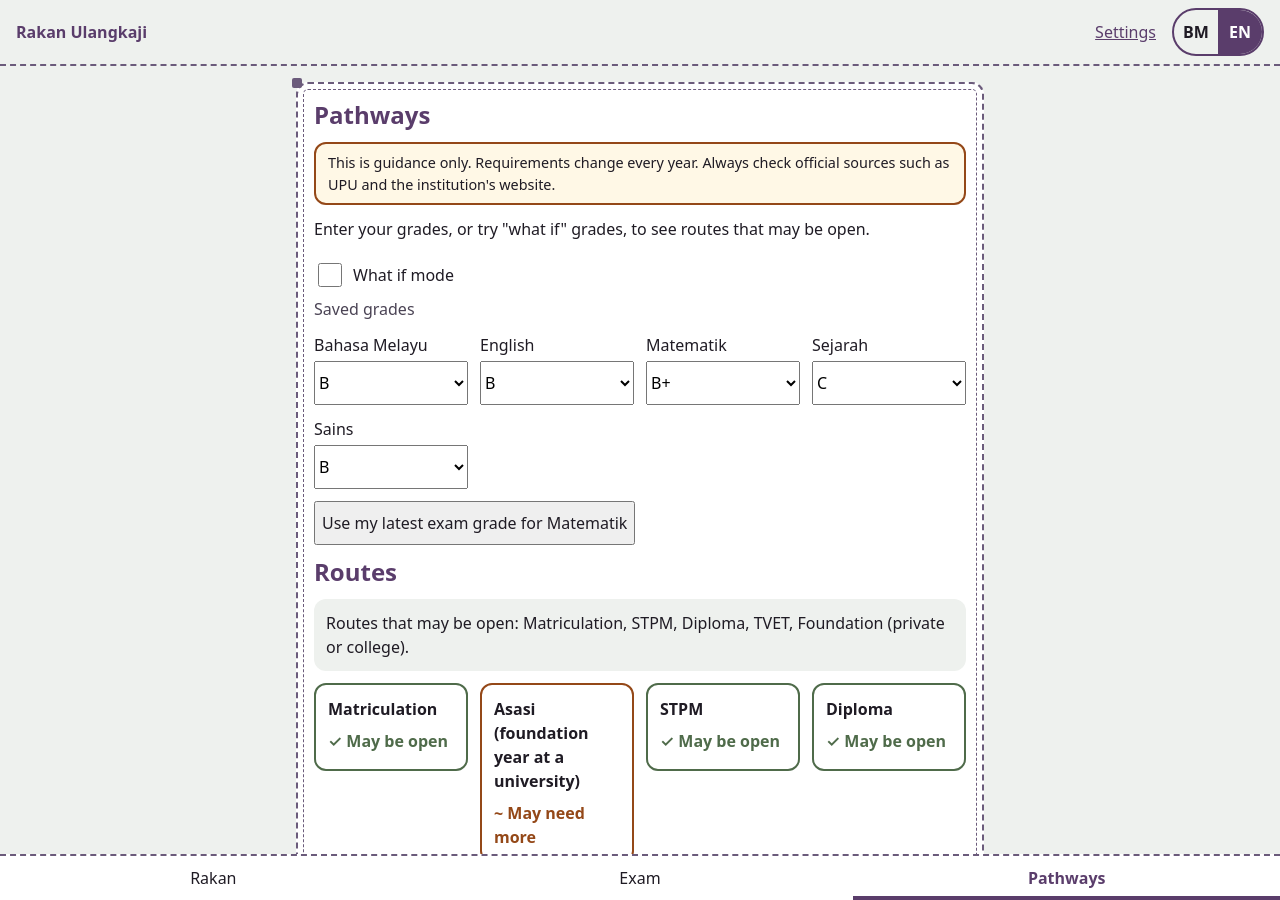
Test case: Board screen › shows six cards and the Disclaimer, and a detail view keeps its place when the language switches
Expected: the heading "Pathways" is shown, [314, 98, 430, 131]
Expected: the text "This is guidance only. Requirements change every year. Always check official sources such as UPU and the institution's w" is shown, [328, 153, 950, 194]
What coordinates should you click on to do the following:
click the button with aria-label "Details for"
I would click on:
 (723, 727)
Its box is [646, 683, 800, 771].
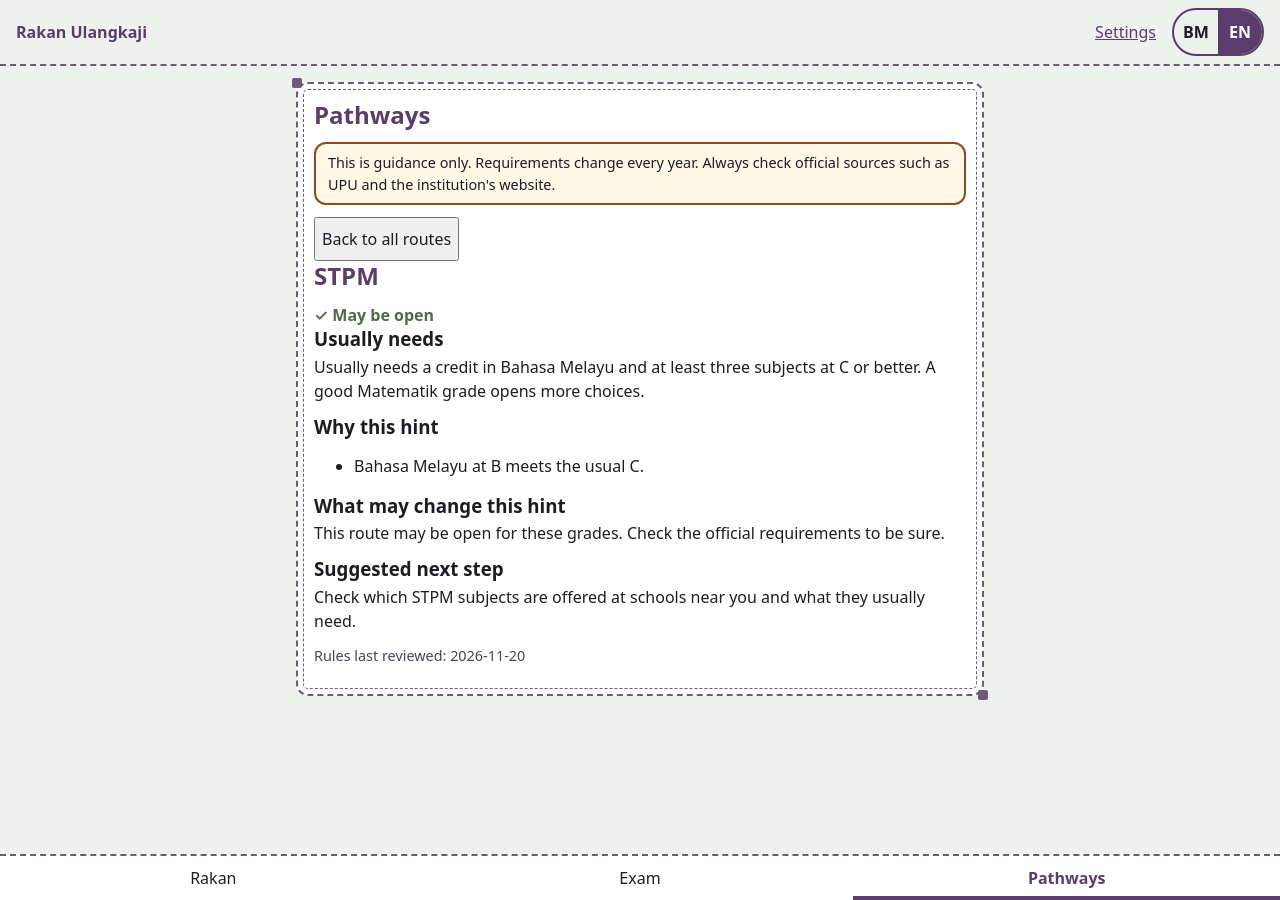
Expected: the heading "STPM" is shown, [314, 259, 379, 292]
Now the text "Rules last reviewed: 2026-11-20" is shown, box [314, 646, 525, 665]
What coordinates should you click on to do the following:
click the button "BM"
I would click on:
 (1196, 32)
Its box is [1174, 10, 1218, 54].
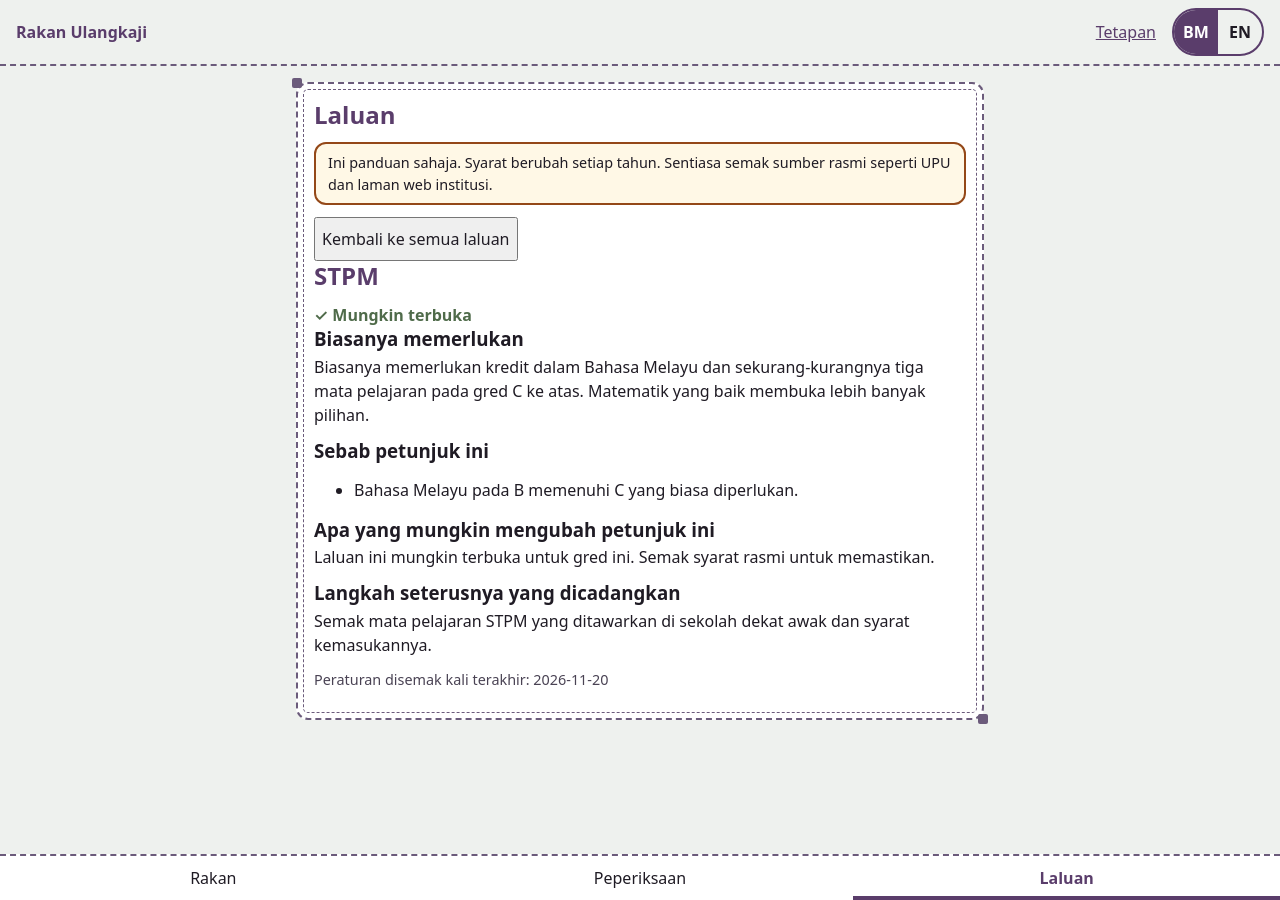
Now the text "Ini panduan sahaja. Syarat berubah setiap tahun. Sentiasa semak sumber rasmi seperti UPU dan laman web institusi." is shown, box [328, 153, 951, 194]
Now the text "This is guidance only. Requirements change every year. Always check official sources such as UPU and the institution's w" is gone
Now the heading "Biasanya memerlukan" is shown, box [314, 326, 524, 351]
